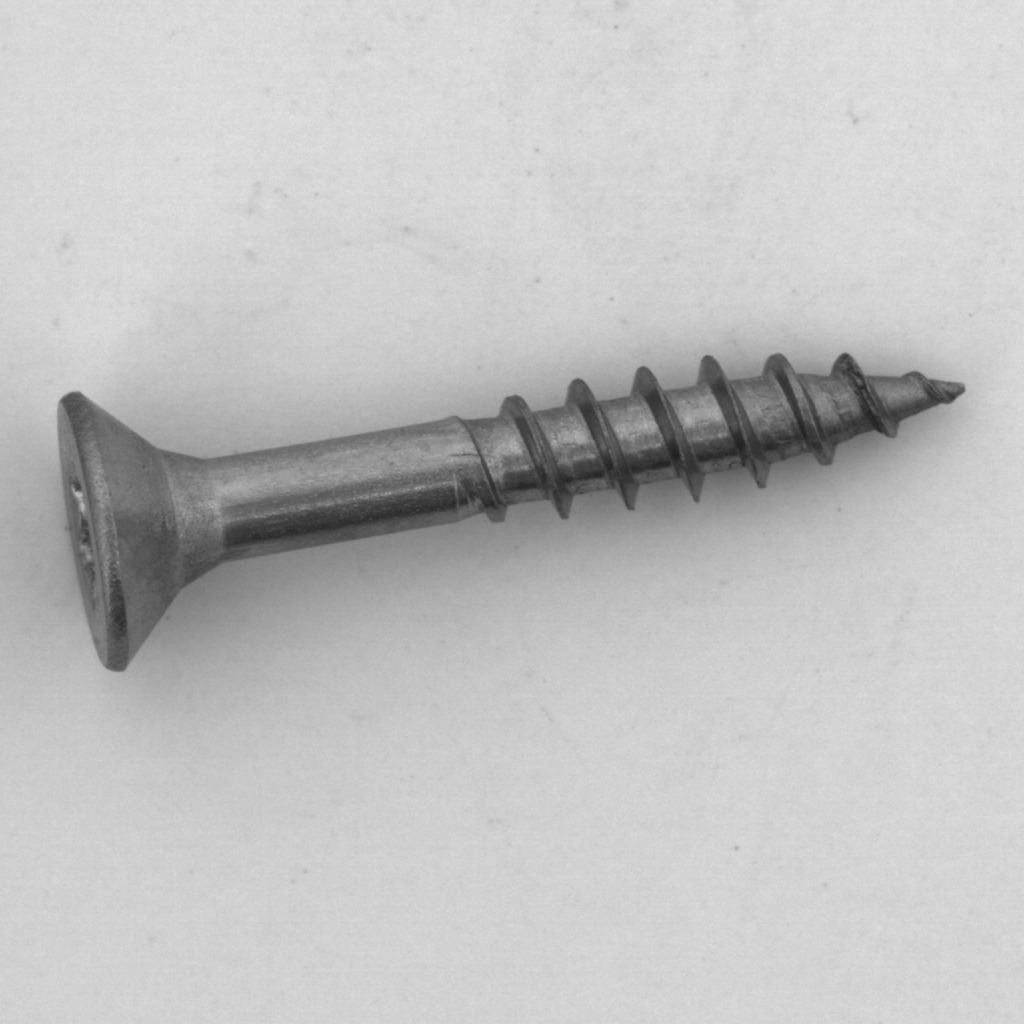good: (34, 313, 1000, 700)
